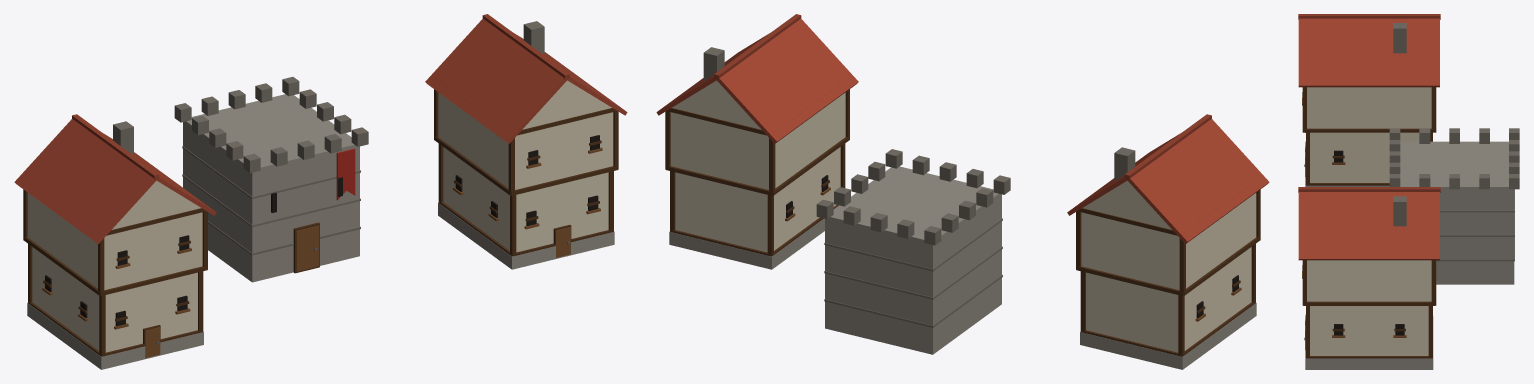
The model's file is human_court.glb.
3 views of the same model, side by side, from view 1: azimuth 30°, elevation 25°; view 2: azimuth 150°, elevation 25°; view 3: azimuth 270°, elevation 25° (orthographic). The views are drawn at different scales.
Visible parts, largest first — view 1: human_court; view 2: human_court; view 3: human_court.
Boxes of the visible parts, box(x1,y1,x2,y2) form: human_court: box(14, 14, 627, 369); human_court: box(656, 14, 1269, 369); human_court: box(1298, 14, 1519, 369).
Size of the model in its own units: 6.21 by 2.07 by 2.6.
